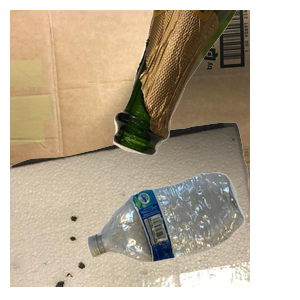cardboard: (10, 10, 250, 190)
glass: (111, 10, 300, 158)
plastic: (85, 170, 300, 300)
trash: (10, 120, 250, 300)
